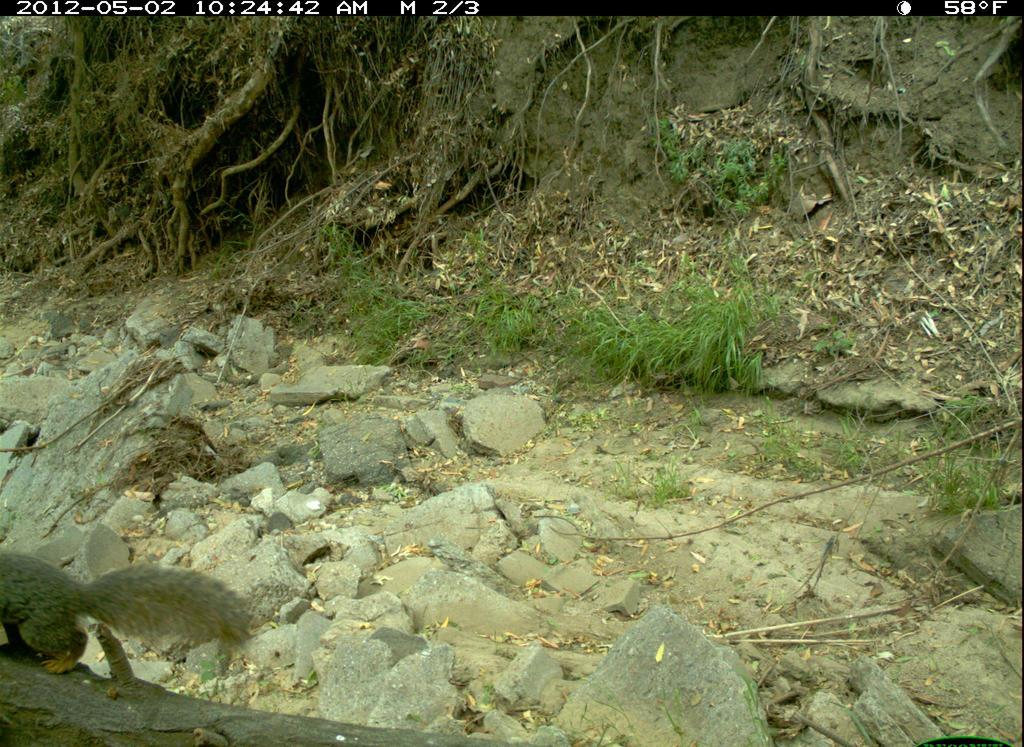squirrel: (2, 520, 259, 684)
